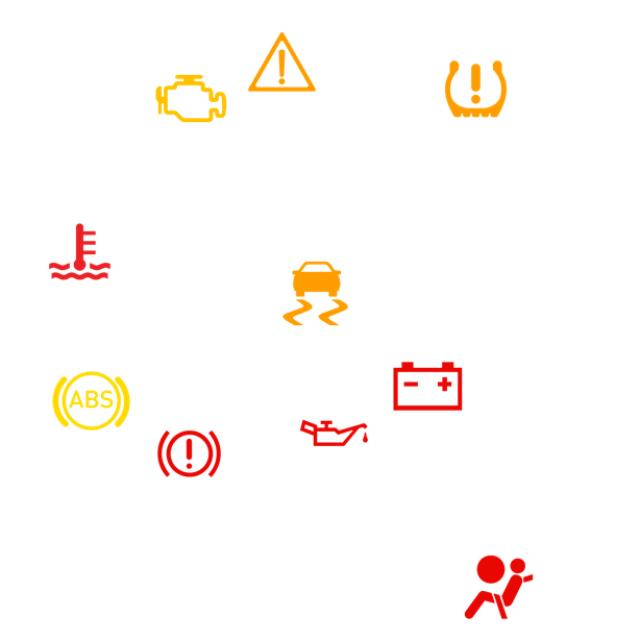Anti Lock Braking System: (49, 359, 133, 443)
Braking System Issue: (147, 412, 231, 496)
Charging System Issue: (386, 344, 470, 428)
Check Engine: (150, 56, 233, 140)
Electronic Stability Problem -ESP-: (274, 252, 358, 336)
Engine Overheating Warning Light: (38, 210, 122, 294)
Low Engine Oil Warning Light: (292, 391, 376, 475)
Low Tire Pressure Warning Light: (434, 47, 518, 131)
Master warning light: (240, 20, 324, 104)
SRS-Airbag: (457, 546, 541, 630)
